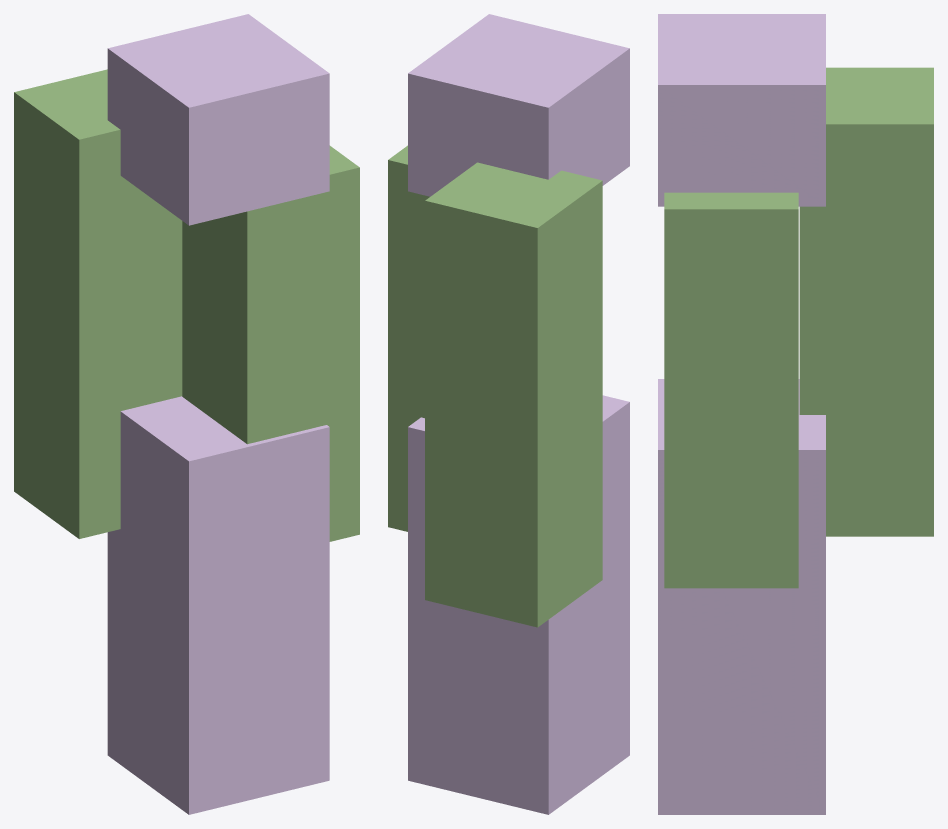
Rendered from Item_Herb_AMF_Dozeleaf_Bundle1.glb.
3 views of the same model, side by side, from view 1: azimuth 30°, elevation 25°; view 2: azimuth 150°, elevation 25°; view 3: azimuth 270°, elevation 25° (orthographic). The views are drawn at different scales.
Parts seen in each view (by area): view 1: Item_Herb_AMF_Dozeleaf_Bundle1; view 2: Item_Herb_AMF_Dozeleaf_Bundle1; view 3: Item_Herb_AMF_Dozeleaf_Bundle1.
Boxes of the visible parts, x1,y1,x2,y2 form: Item_Herb_AMF_Dozeleaf_Bundle1: (14, 14, 359, 814); Item_Herb_AMF_Dozeleaf_Bundle1: (388, 14, 629, 814); Item_Herb_AMF_Dozeleaf_Bundle1: (658, 14, 933, 814).
Size of the model in its own units: 0.0764 by 0.24 by 0.0821.
